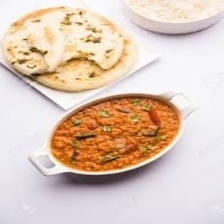roti: (0, 5, 136, 92)
